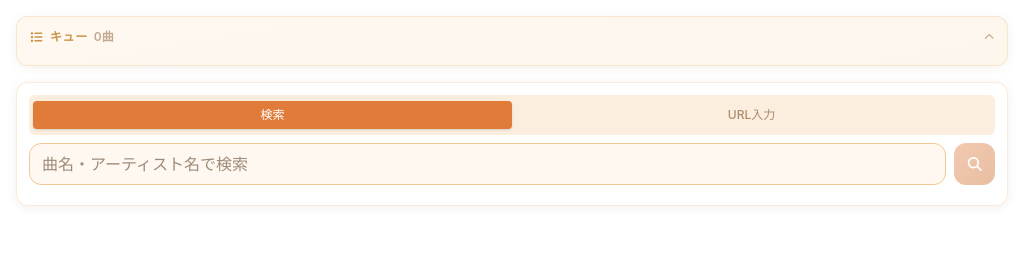
Test: MusicPanel › URL入力タブ › URL入力欄の全削除ボタンで入力をクリアする
Step 1. Click the tab "URL入力" → [752, 115], box [512, 101, 991, 129]
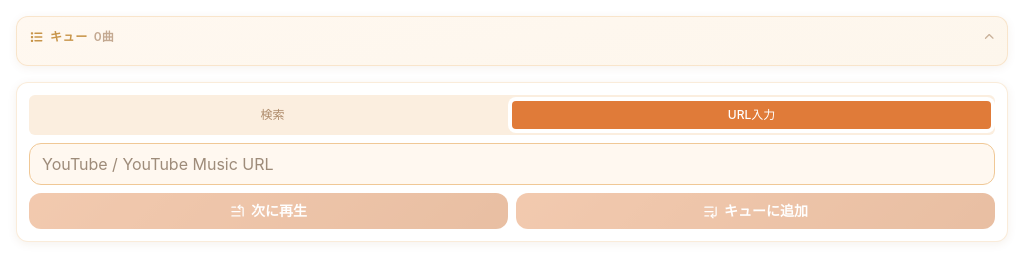
Step 2. Type "https://youtu.be/abc" into the field with placeholder "YouTube / YouTube Music URL" → [512, 164], box [29, 143, 995, 185]
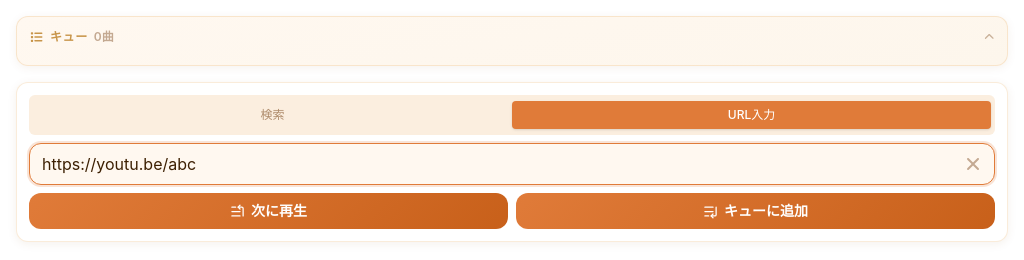
Step 3. Click the button named "URL入力欄をクリア" → [973, 164], box [959, 150, 987, 178]
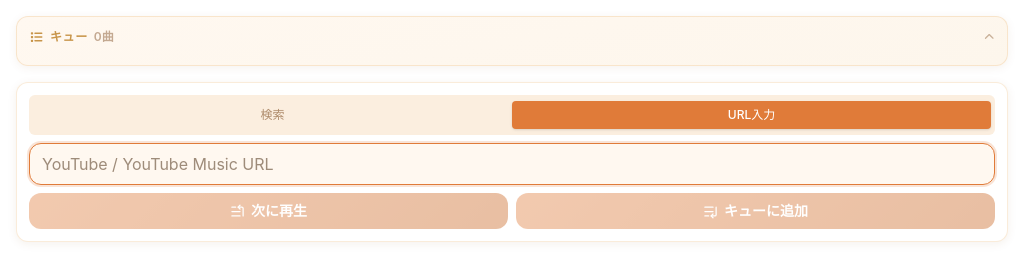
Result: the field with placeholder "YouTube / YouTube Music URL" is empty at [29, 143, 995, 185]
